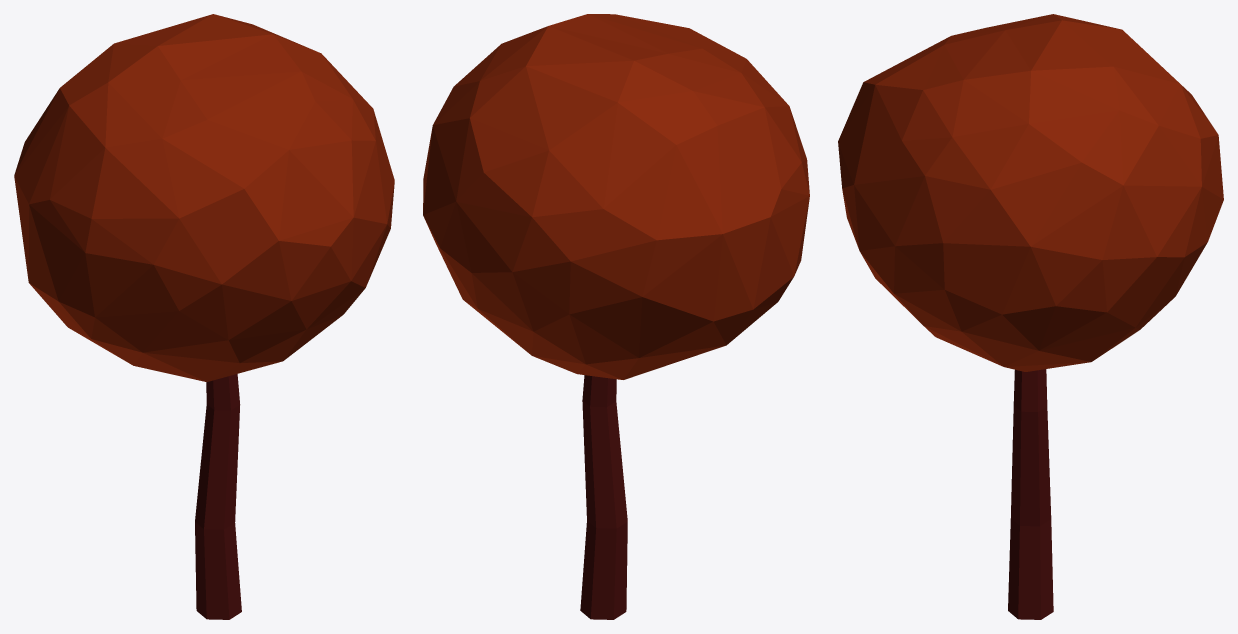
File: Tree_Park_S_Orange_flat.gltf
3 renders of one model, left to right at view 1: azimuth 30°, elevation 25°; view 2: azimuth 150°, elevation 25°; view 3: azimuth 270°, elevation 25°, orthographic.
Visible parts, largest first — view 1: Tree_Park_S_Orange_flat; view 2: Tree_Park_S_Orange_flat; view 3: Tree_Park_S_Orange_flat.
Boxes of the visible parts, x1,y1,x2,y2 form: Tree_Park_S_Orange_flat: (14, 14, 394, 619); Tree_Park_S_Orange_flat: (423, 14, 809, 619); Tree_Park_S_Orange_flat: (838, 14, 1223, 619).
Bounding box in the file's own units: 5.32 × 8.67 × 5.34.
Materials: 1 (1 with a texture image).
